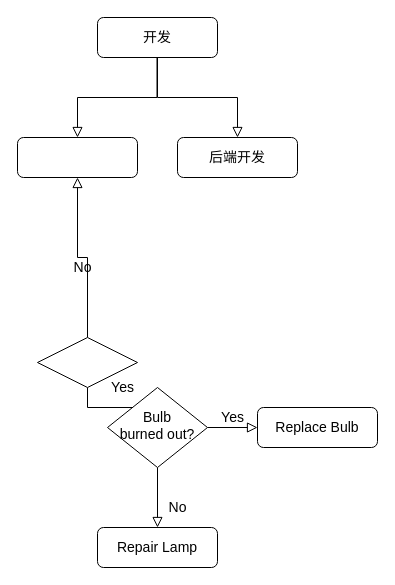
Some shapes in this 395 by 585 pixel diagram are drawn without their labels. Each missing label, with the box of its shape:
Lamp plugged in?: (36, 336, 138, 388)
前端开发: (16, 136, 138, 178)
